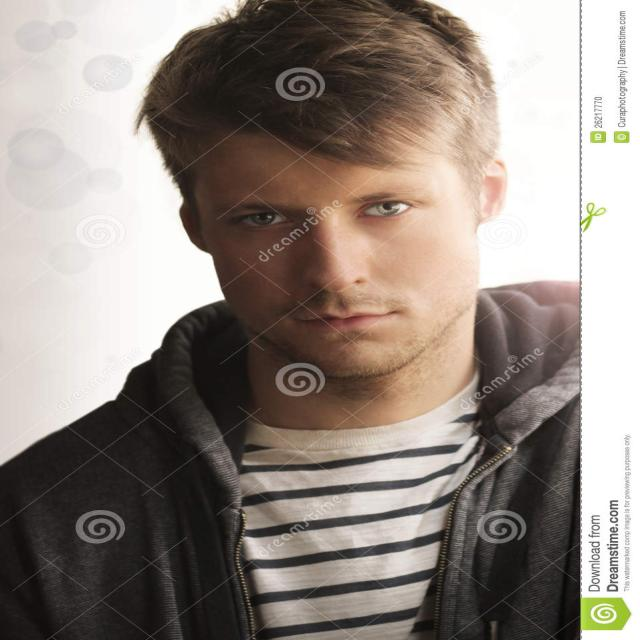front: (183, 144, 499, 366)
